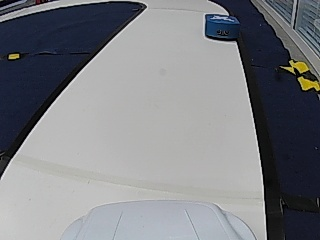prop: (205, 15, 240, 41)
